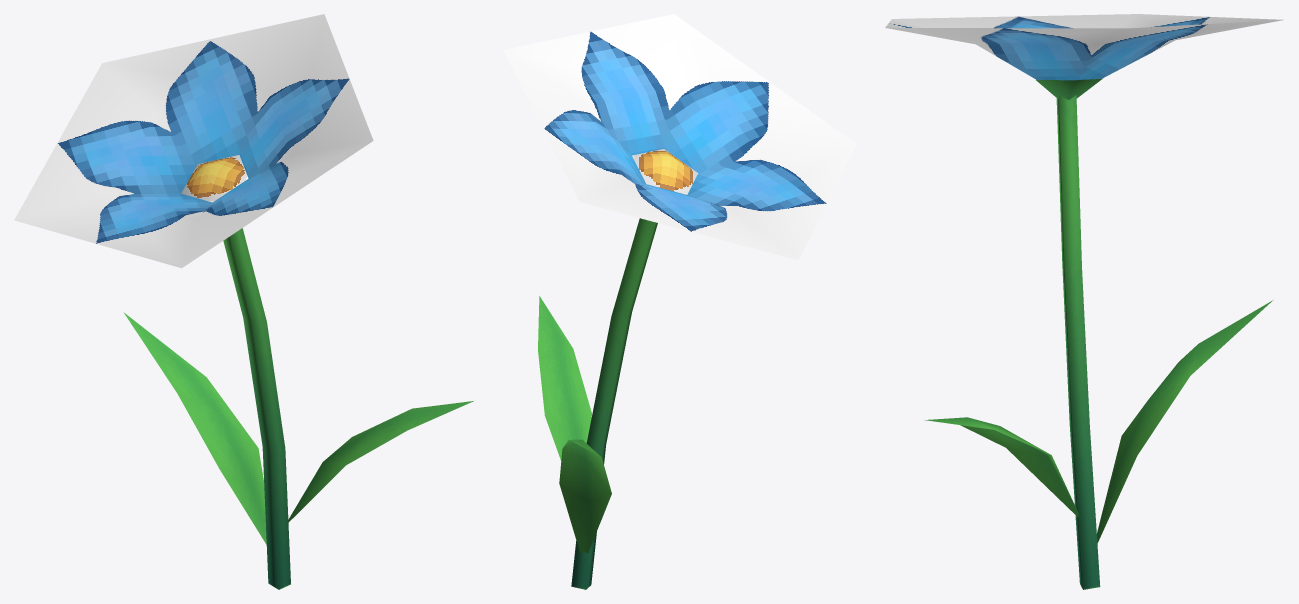
Rendered from Flower_Balloon_2.glb.
The picture shows the model from 3 angles, left to right: view 1: azimuth 30°, elevation 25°; view 2: azimuth 150°, elevation 25°; view 3: azimuth 270°, elevation 25°; orthographic projection. The views are drawn at different scales.
Parts seen in each view (by area): view 1: Cone.113_Cone.137, Cube.130_Cube.255, object6.083_object6.027, object6.084_object6.028, Cone.112_Cone.136; view 2: Cone.113_Cone.137, Cube.130_Cube.255, object6.084_object6.028, object6.083_object6.027, Cone.112_Cone.136; view 3: Cone.113_Cone.137, Cube.130_Cube.255, object6.083_object6.027, object6.084_object6.028, Cone.114_Cone.138.
Boxes of the visible parts, left/top/right/bottom form: Cone.113_Cone.137: left=14, top=14, right=373, bottom=268; Cube.130_Cube.255: left=223, top=228, right=290, bottom=589; object6.083_object6.027: left=123, top=312, right=266, bottom=544; object6.084_object6.028: left=287, top=401, right=473, bottom=523; Cone.112_Cone.136: left=181, top=155, right=248, bottom=202; Cone.113_Cone.137: left=503, top=14, right=856, bottom=260; Cube.130_Cube.255: left=571, top=218, right=657, bottom=589; object6.084_object6.028: left=538, top=296, right=591, bottom=460; object6.083_object6.027: left=559, top=439, right=611, bottom=553; Cone.112_Cone.136: left=632, top=149, right=697, bottom=194; Cone.113_Cone.137: left=885, top=14, right=1283, bottom=80; Cube.130_Cube.255: left=1056, top=95, right=1100, bottom=589; object6.083_object6.027: left=1097, top=300, right=1272, bottom=543; object6.084_object6.028: left=924, top=417, right=1079, bottom=517; Cone.114_Cone.138: left=1036, top=78, right=1102, bottom=100.
Size of the model in its own units: 0.4543 by 0.6515 by 0.3992.
Materials: 4 (4 with a texture image).
